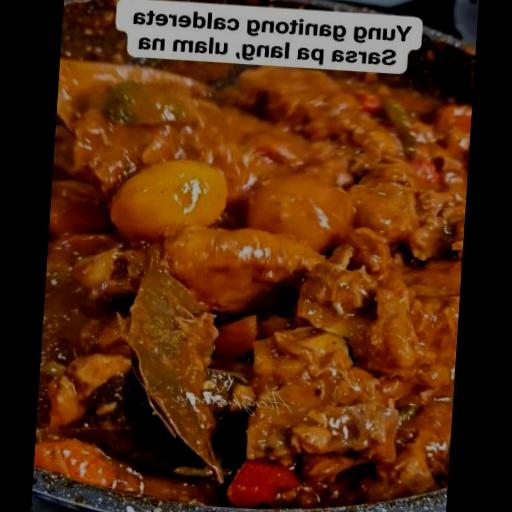pork caldereta: (25, 71, 480, 511)
